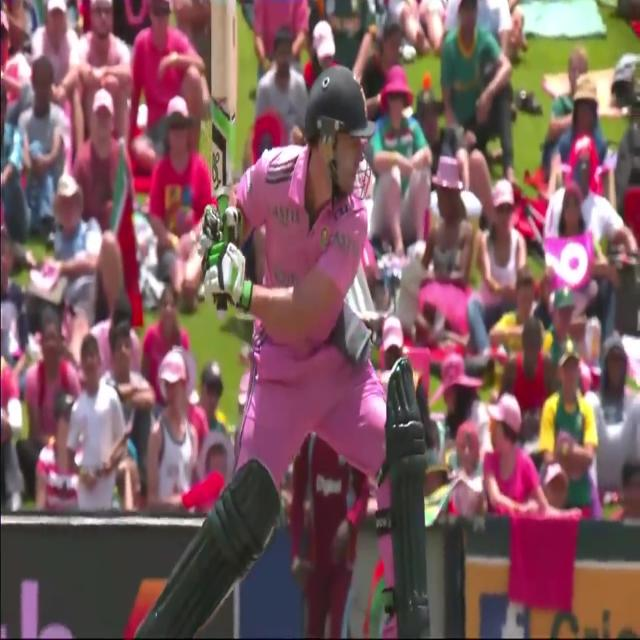Ball: (140, 60, 435, 639)
